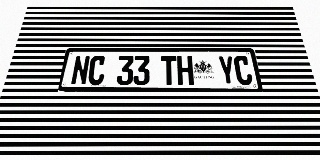3: (116, 56, 134, 85), (133, 56, 150, 85)
C: (233, 56, 253, 85), (87, 56, 106, 85)
H: (177, 56, 194, 85)
N: (70, 56, 90, 85)
T: (161, 56, 177, 85)
Y: (217, 56, 237, 85)
